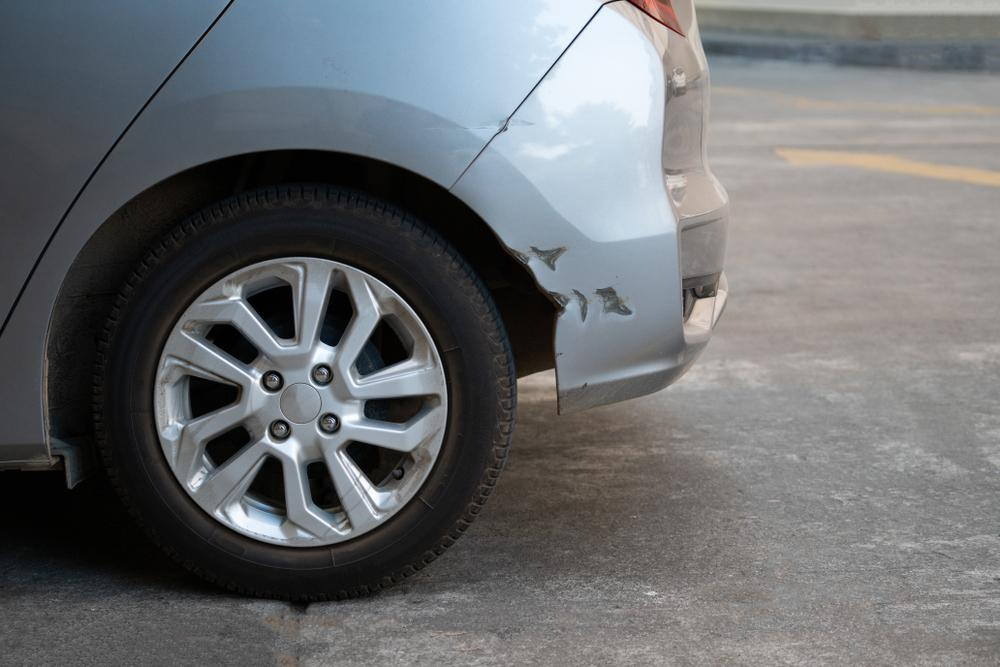scratch: (509, 243, 639, 326)
